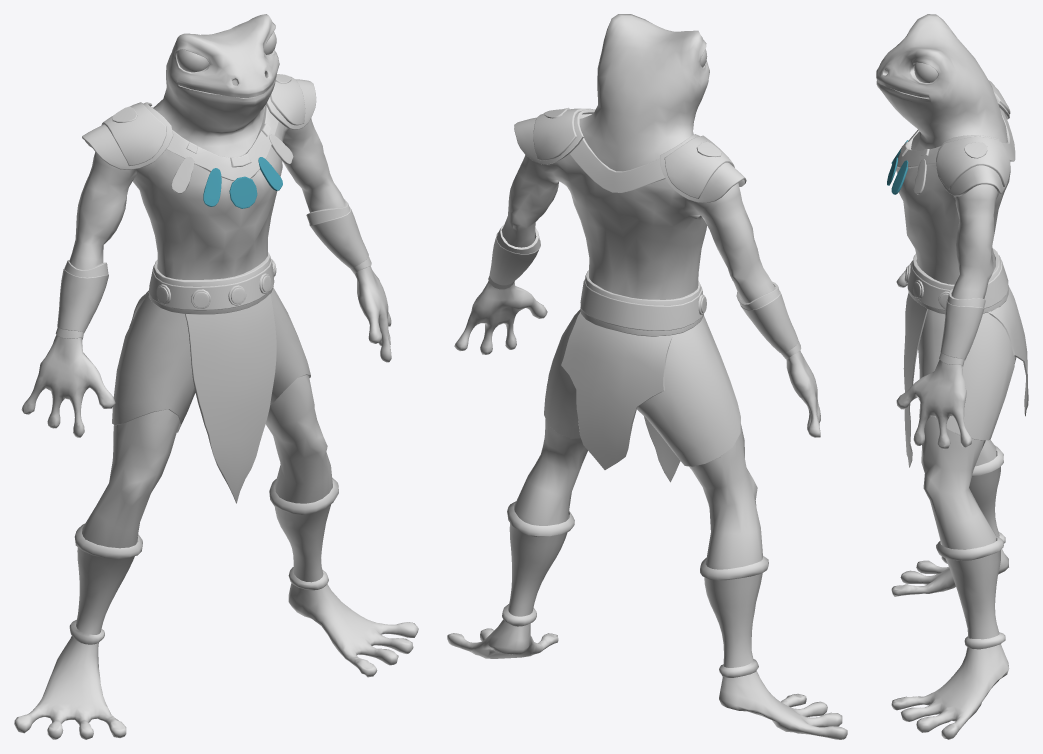
File: frog_M_low.fbx
3 views of the same model, side by side, from view 1: azimuth 30°, elevation 25°; view 2: azimuth 150°, elevation 25°; view 3: azimuth 270°, elevation 25° (orthographic). The views are drawn at different scales.
Parts seen in each view (by area): view 1: body_low, front_loincloth_low, pants_low, shin_guard_low, pauldron_low, armor_sleeves_low, belt_low, neck_accs_low, neck_piece_low, belt_small_low, eyes_low; view 2: body_low, pants_low, back_loincloth_low, shin_guard_low, pauldron_low, belt_low, armor_sleeves_low, neck_piece_low, front_loincloth_low; view 3: body_low, pants_low, shin_guard_low, pauldron_low, armor_sleeves_low, belt_low, front_loincloth_low, back_loincloth_low, neck_piece_low, neck_accs_low, eyes_low, shoulder_accs_low.
Boxes of the visible parts, box(x1,y1,x2,y2) form: body_low: box(14, 14, 418, 739); front_loincloth_low: box(185, 294, 276, 503); pants_low: box(112, 288, 310, 432); shin_guard_low: box(69, 478, 338, 644); pauldron_low: box(82, 77, 316, 169); armor_sleeves_low: box(55, 199, 371, 339); belt_low: box(148, 252, 274, 314); neck_accs_low: box(171, 134, 293, 208); neck_piece_low: box(151, 105, 278, 180); belt_small_low: box(156, 259, 276, 307); eyes_low: box(177, 32, 276, 72); body_low: box(447, 14, 847, 739); pants_low: box(544, 309, 740, 466); back_loincloth_low: box(561, 312, 672, 469); shin_guard_low: box(502, 501, 768, 677); pauldron_low: box(514, 108, 746, 203); belt_low: box(580, 270, 703, 336); armor_sleeves_low: box(488, 224, 801, 359); neck_piece_low: box(569, 114, 665, 192); front_loincloth_low: box(644, 416, 680, 482); body_low: box(876, 14, 1010, 739); pants_low: box(918, 309, 1016, 440); shin_guard_low: box(936, 445, 1005, 649); pauldron_low: box(936, 80, 1010, 196); armor_sleeves_low: box(939, 289, 985, 366); belt_low: box(907, 248, 1008, 314); front_loincloth_low: box(903, 292, 927, 467); back_loincloth_low: box(987, 286, 1028, 416); neck_piece_low: box(897, 108, 1015, 168); neck_accs_low: box(887, 140, 926, 194); eyes_low: box(914, 63, 938, 82); shoulder_accs_low: box(964, 142, 987, 158).
Size of the model in its own units: 494 by 787 by 175.
